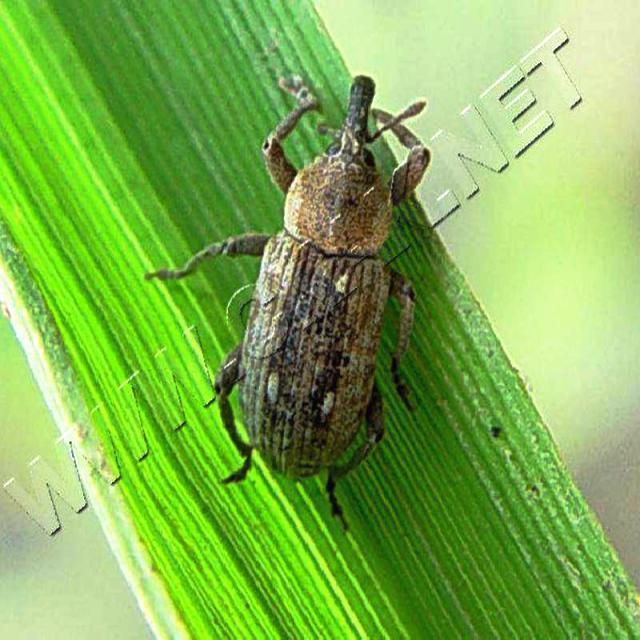rice-bug: (186, 74, 438, 484)
